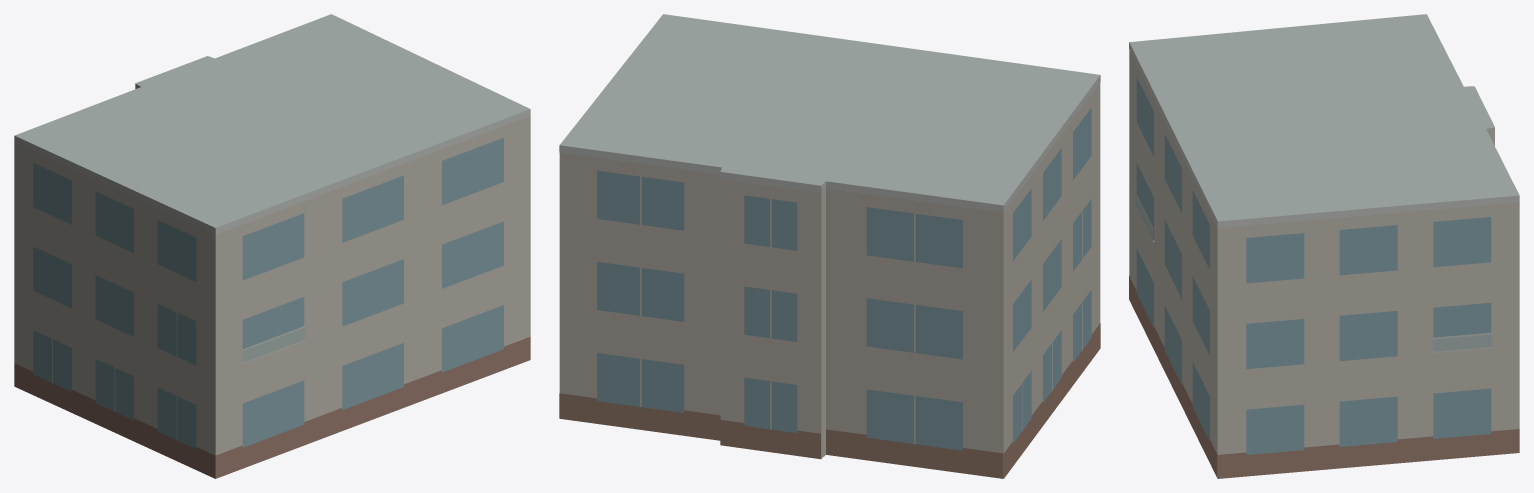
The model's file is survey-upis-32698338.glb.
The picture shows the model from 3 angles, left to right: view 1: azimuth 30°, elevation 25°; view 2: azimuth 150°, elevation 25°; view 3: azimuth 270°, elevation 25°; orthographic projection. The views are drawn at different scales.
Visible parts, largest first — view 1: survey-upis-32698338.tmp; view 2: survey-upis-32698338.tmp; view 3: survey-upis-32698338.tmp.
Boxes of the visible parts, x1,y1,x2,y2 form: survey-upis-32698338.tmp: (14, 14, 530, 478); survey-upis-32698338.tmp: (559, 14, 1100, 478); survey-upis-32698338.tmp: (1129, 14, 1519, 478).
Size of the model in its own units: 15.82 by 9.15 by 12.59.
